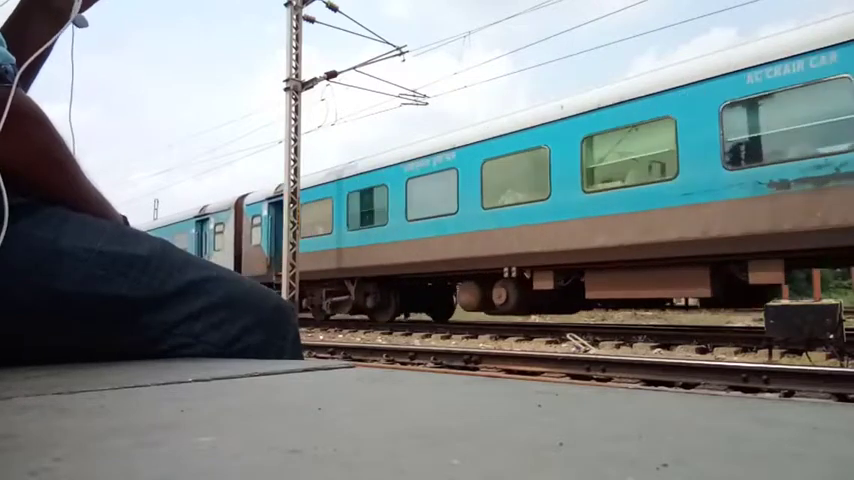Car Type: (734, 39, 846, 91)
